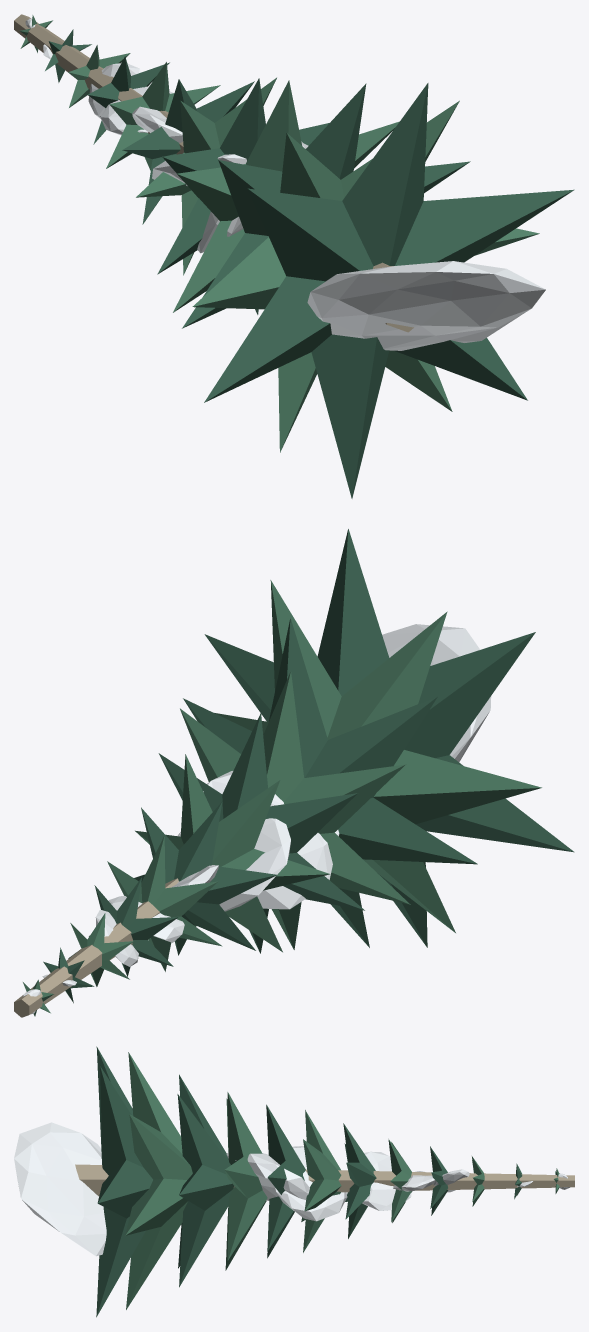
Rendered from TreeConiferB1.fbx.
3 renders of one model, top to bottom at view 1: azimuth 30°, elevation 25°; view 2: azimuth 150°, elevation 25°; view 3: azimuth 270°, elevation 25°, orthographic. The views are drawn at different scales.
Visible parts, largest first — view 1: M_Tree_Pine_Dark, M_Tree_Pine_Mid, M_Tree_Snow, M_Tree_PaleWood; view 2: M_Tree_Pine_Dark, M_Tree_Pine_Mid, M_Tree_Snow, M_Tree_PaleWood; view 3: M_Tree_Pine_Dark, M_Tree_Pine_Mid, M_Tree_Snow, M_Tree_PaleWood.
Boxes of the visible parts, x1,y1,x2,y2 form: M_Tree_Pine_Dark: (45, 29, 574, 498); M_Tree_Pine_Mid: (20, 15, 539, 452); M_Tree_Snow: (25, 18, 545, 350); M_Tree_PaleWood: (14, 14, 413, 332); M_Tree_Pine_Dark: (43, 529, 574, 1003); M_Tree_Pine_Mid: (23, 580, 541, 1016); M_Tree_Snow: (22, 624, 491, 1014); M_Tree_PaleWood: (14, 878, 178, 1017); M_Tree_Pine_Dark: (96, 1046, 522, 1317); M_Tree_Pine_Mid: (125, 1052, 559, 1309); M_Tree_Snow: (14, 1122, 569, 1256); M_Tree_PaleWood: (75, 1164, 574, 1196).
Bounding box in the file's own units: 1956 × 2015 × 3958.
